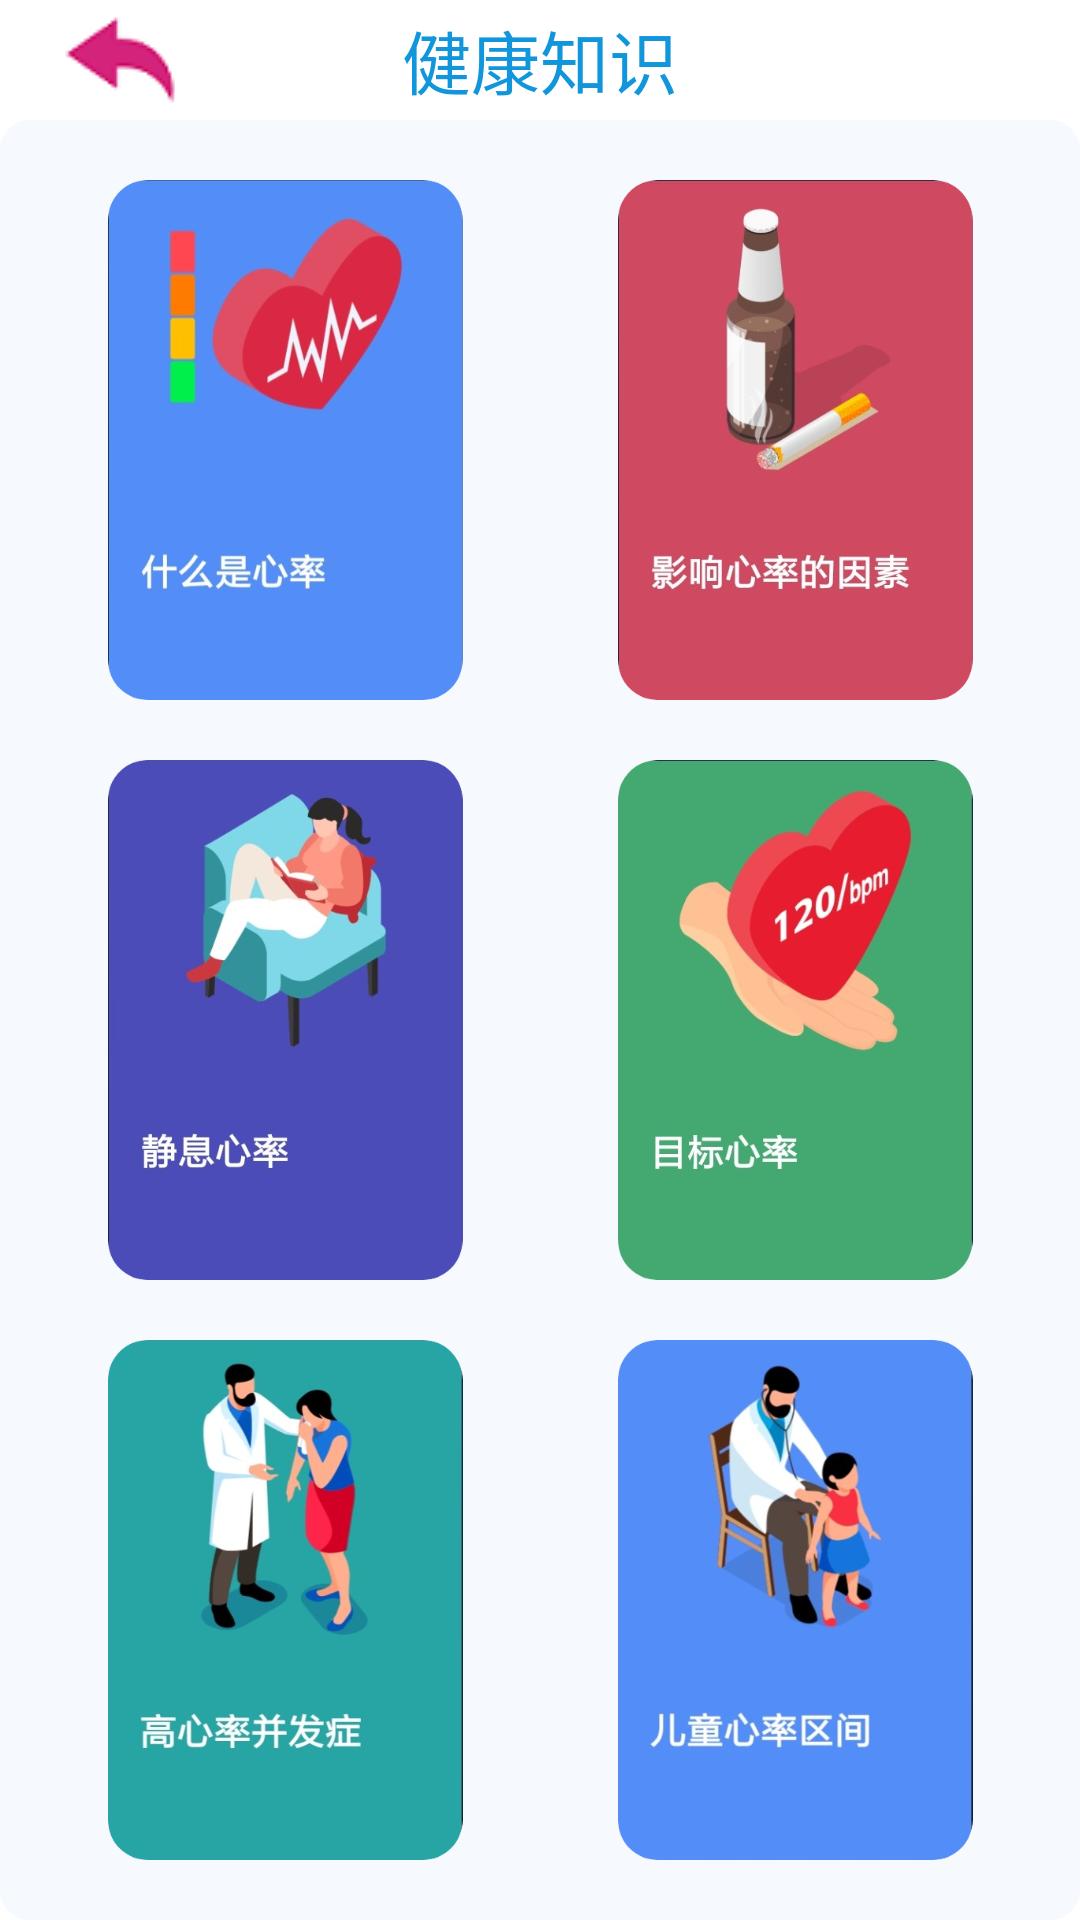

Icons on this 1080×1920 Android screen, each with its box as (x1, y1, x2, y2):
return: (66, 17, 175, 102)
